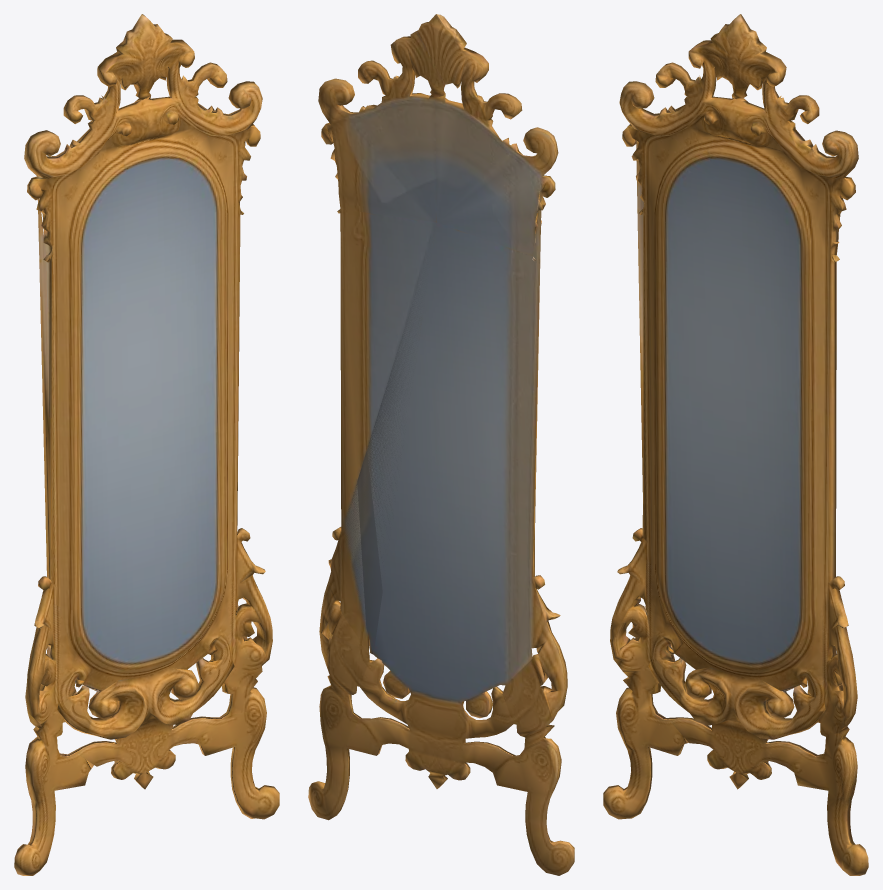
The model's file is mirror.glb.
The picture shows the model from 3 angles, left to right: view 1: azimuth 30°, elevation 25°; view 2: azimuth 150°, elevation 25°; view 3: azimuth 330°, elevation 25°; orthographic projection.
Bounding box in the file's own units: 0.3178 × 0.9512 × 0.0235.
Materials: 1 (1 with a texture image).
